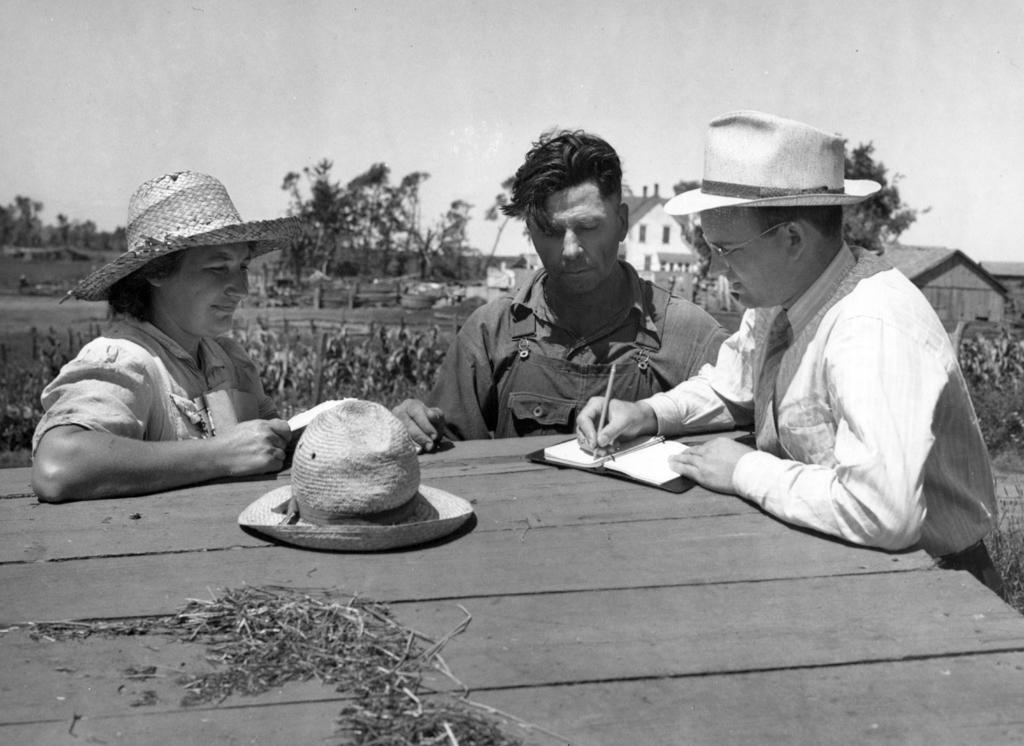Hat: (234, 400, 476, 556), (70, 167, 296, 301), (660, 106, 879, 215)
